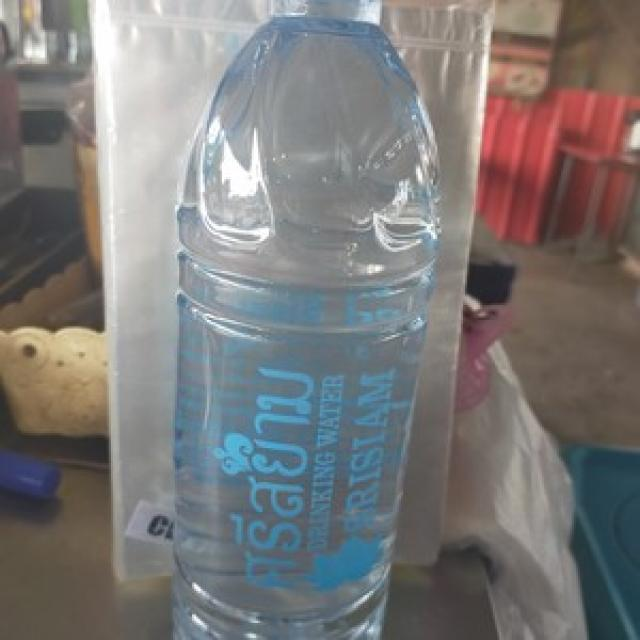plastic_bottle: (170, 0, 442, 640)
